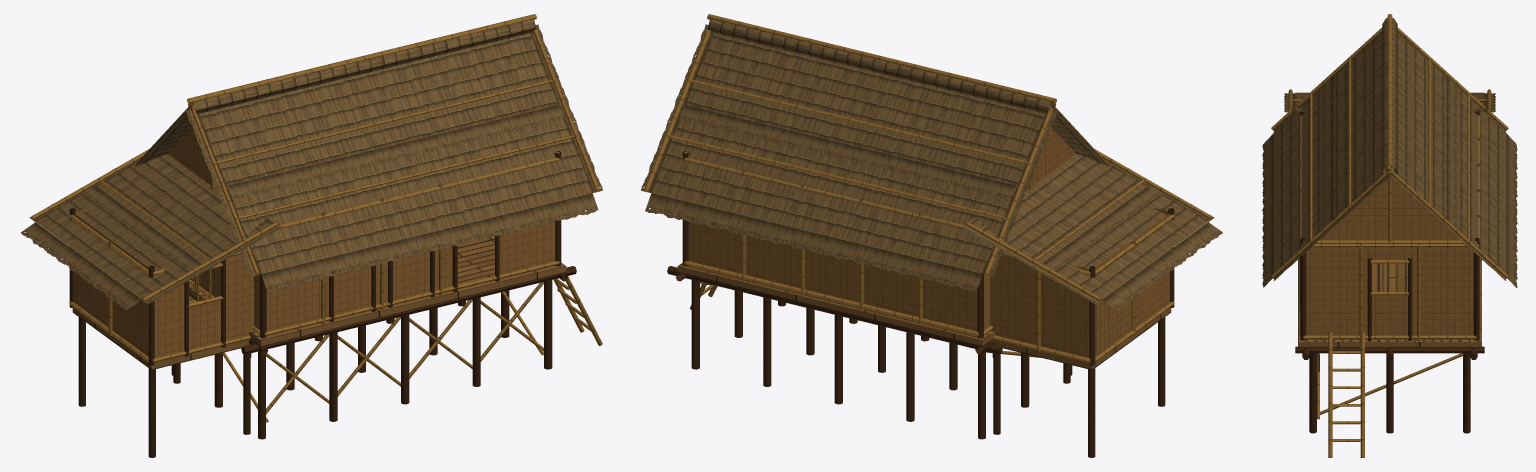
3 renders of one model, left to right at view 1: azimuth 30°, elevation 25°; view 2: azimuth 150°, elevation 25°; view 3: azimuth 270°, elevation 25°, orthographic. The views are drawn at different scales.
Visible parts, largest first — view 1: hut_tausug_0; view 2: hut_tausug_0; view 3: hut_tausug_0.
Part boxes in pixels (left/top/right/bottom): hut_tausug_0: left=21, top=14, right=602, bottom=457; hut_tausug_0: left=641, top=14, right=1222, bottom=457; hut_tausug_0: left=1262, top=14, right=1517, bottom=457.
Bounding box in the file's own units: 9.53 × 5.71 × 4.87.
6 materials, 6 textured.
